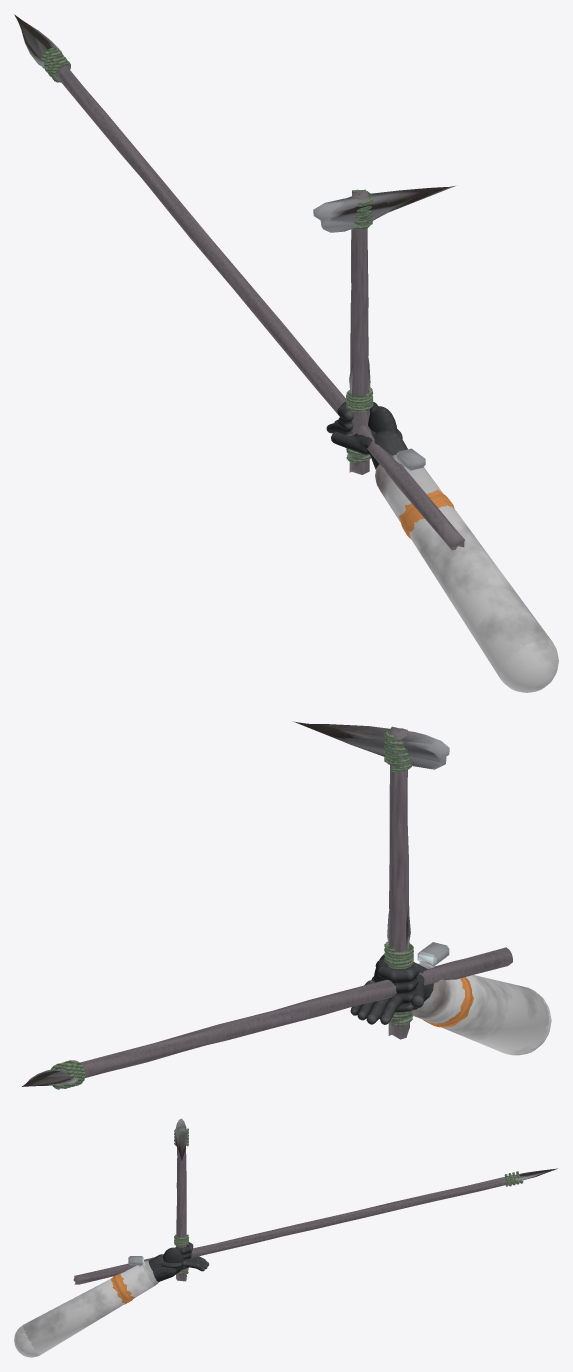
The model's file is viewmodels.glb.
3 views of the same model, one above another, from view 1: azimuth 30°, elevation 25°; view 2: azimuth 150°, elevation 25°; view 3: azimuth 270°, elevation 25° (orthographic). The views are drawn at different scales.
Visible parts, largest first — view 1: Arm, Tool_Spear, Tool_Pick, Hand_Open, Hand_Grip, Tool_Knife; view 2: Tool_Spear, Arm, Tool_Pick, Hand_Open, Hand_Grip, Tool_Knife; view 3: Arm, Tool_Spear, Tool_Pick, Hand_Grip, Hand_Open.
Part boxes in pixels (bbox=[...]): Arm: bbox=[375, 448, 558, 692]; Tool_Spear: bbox=[14, 14, 465, 550]; Tool_Pick: bbox=[313, 185, 455, 474]; Hand_Open: bbox=[326, 420, 407, 469]; Hand_Grip: bbox=[337, 401, 397, 448]; Tool_Knife: bbox=[346, 358, 373, 457]; Tool_Spear: bbox=[22, 947, 512, 1089]; Arm: bbox=[412, 942, 551, 1055]; Tool_Pick: bbox=[293, 721, 449, 1039]; Hand_Open: bbox=[350, 962, 433, 1024]; Hand_Grip: bbox=[374, 954, 419, 1012]; Tool_Knife: bbox=[384, 909, 413, 1019]; Arm: bbox=[14, 1256, 158, 1357]; Tool_Spear: bbox=[73, 1168, 557, 1284]; Tool_Pick: bbox=[174, 1118, 188, 1281]; Hand_Grip: bbox=[153, 1242, 193, 1281]; Hand_Open: bbox=[148, 1254, 209, 1271].
Bounding box in the file's own units: 0.2905 × 0.7808 × 1.74.
6 materials, 6 textured.
